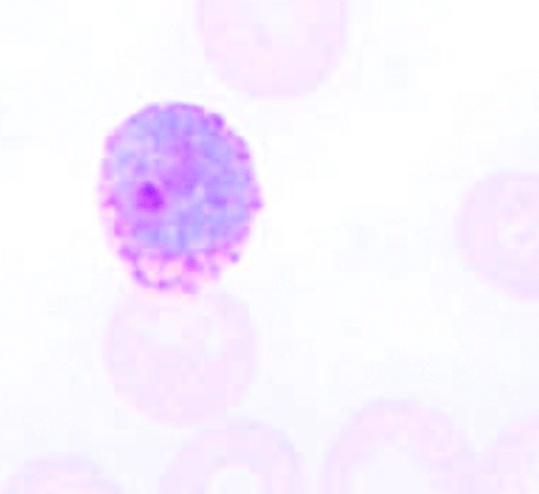Infected: (98, 100, 265, 296)
Uninfected: (103, 290, 256, 424), (320, 396, 478, 494), (195, 0, 346, 94), (160, 416, 304, 491), (455, 168, 539, 296)
